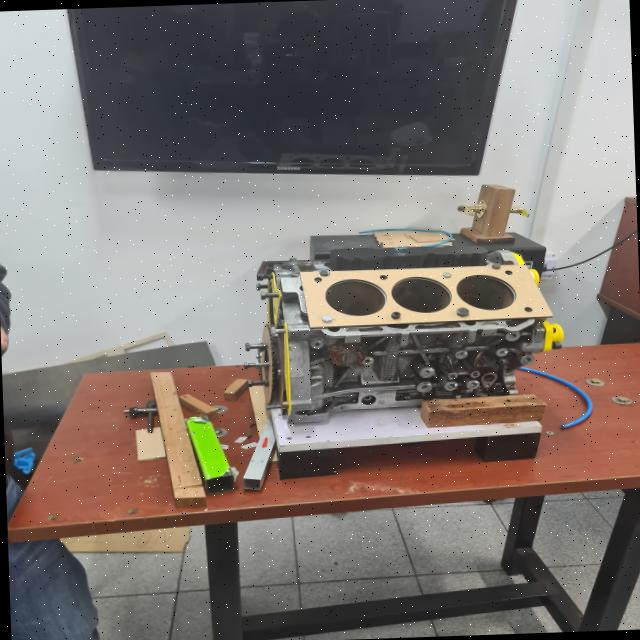tor_v1: (300, 263, 550, 328)
